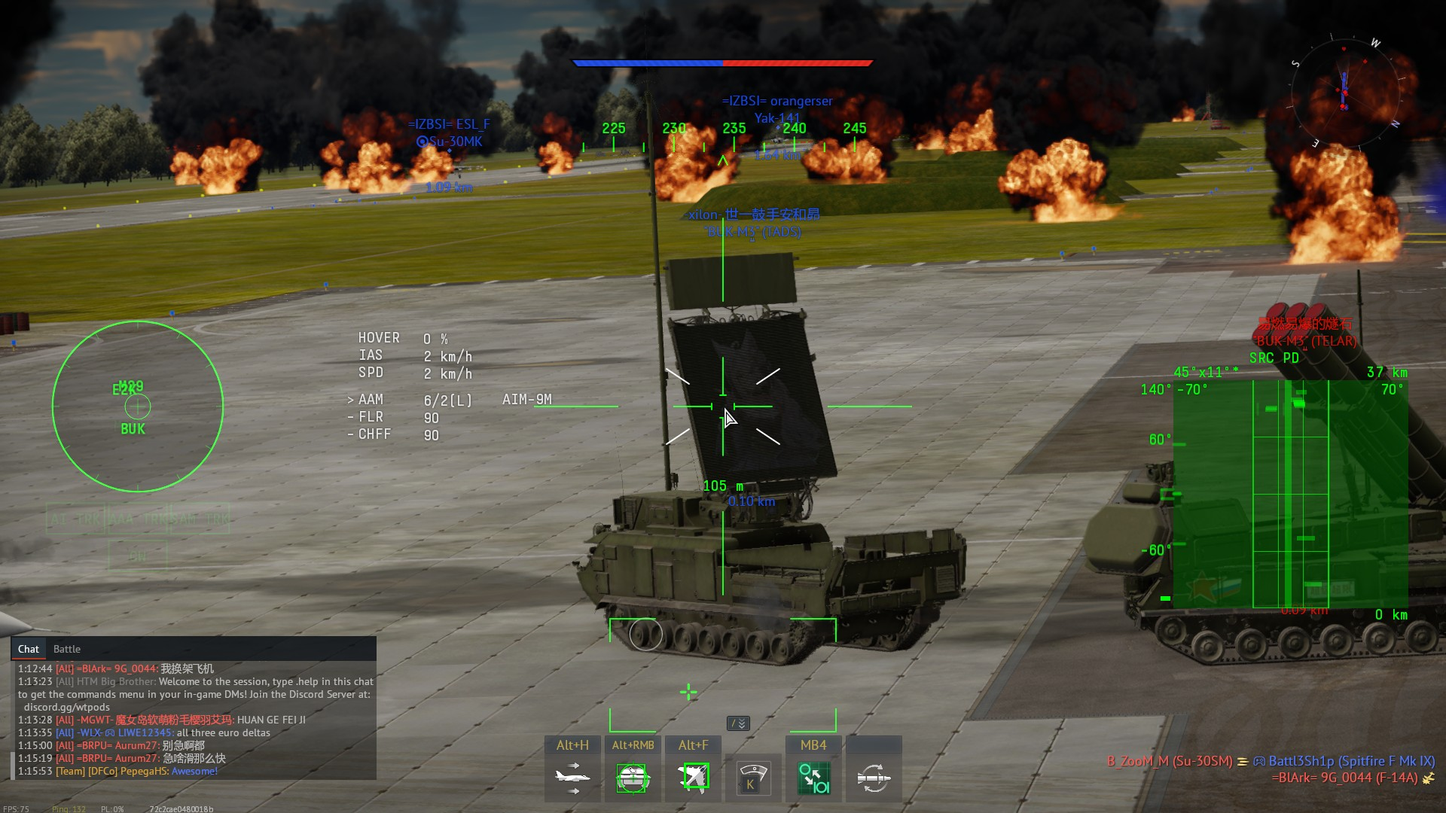BUK_TADS: (572, 251, 967, 668)
BUK_TELAR: (1085, 302, 1446, 680)
